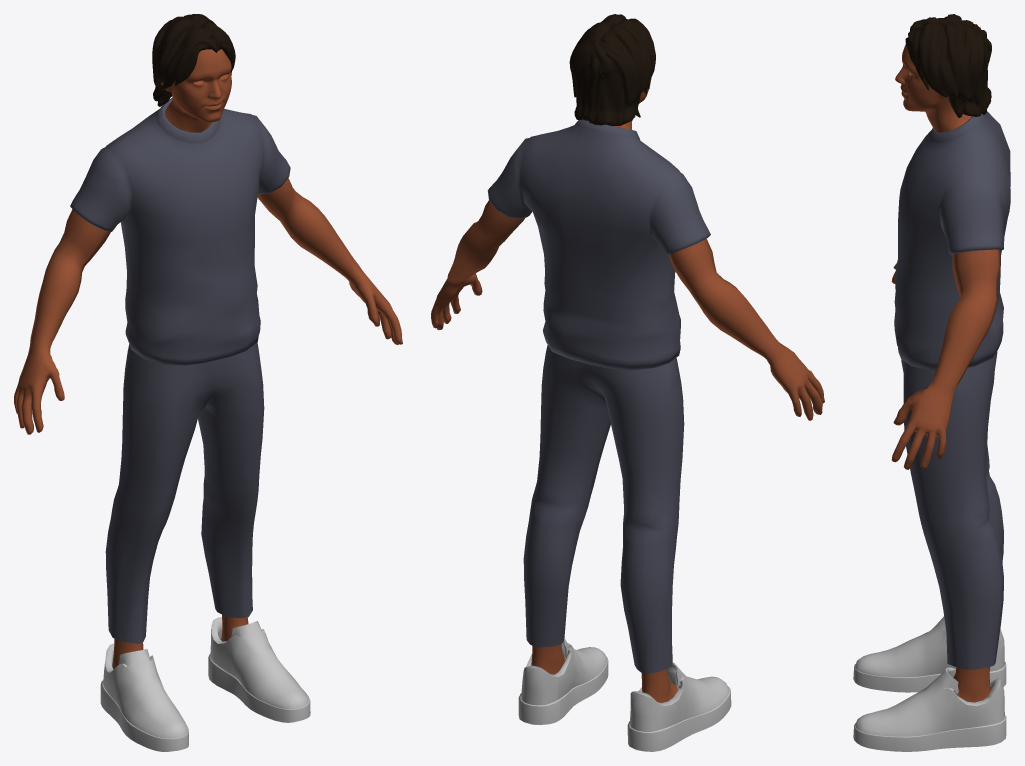
Rendered from man3.glb.
3 renders of one model, left to right at view 1: azimuth 30°, elevation 25°; view 2: azimuth 150°, elevation 25°; view 3: azimuth 270°, elevation 25°, orthographic.
Visible parts, largest first — view 1: Wolf3D_Outfit_Top.001, Wolf3D_Outfit_Bottom.001, Wolf3D_Body.001, Wolf3D_Outfit_Footwear.001, Wolf3D_Hair, Wolf3D_Head.001; view 2: Wolf3D_Outfit_Top.001, Wolf3D_Outfit_Bottom.001, Wolf3D_Body.001, Wolf3D_Outfit_Footwear.001, Wolf3D_Hair; view 3: Wolf3D_Outfit_Top.001, Wolf3D_Outfit_Bottom.001, Wolf3D_Outfit_Footwear.001, Wolf3D_Body.001, Wolf3D_Hair, Wolf3D_Head.001.
Boxes of the visible parts, x1,y1,x2,y2 form: Wolf3D_Outfit_Top.001: (70, 98, 290, 365); Wolf3D_Outfit_Bottom.001: (105, 342, 264, 643); Wolf3D_Body.001: (14, 178, 402, 669); Wolf3D_Outfit_Footwear.001: (100, 617, 310, 751); Wolf3D_Hair: (152, 14, 235, 106); Wolf3D_Head.001: (161, 49, 231, 132); Wolf3D_Outfit_Top.001: (487, 119, 710, 370); Wolf3D_Outfit_Bottom.001: (523, 345, 684, 673); Wolf3D_Body.001: (431, 200, 824, 702); Wolf3D_Outfit_Footwear.001: (518, 638, 731, 751); Wolf3D_Hair: (569, 14, 655, 125); Wolf3D_Outfit_Top.001: (894, 111, 1010, 370); Wolf3D_Outfit_Bottom.001: (901, 351, 1003, 669); Wolf3D_Outfit_Footwear.001: (853, 616, 1006, 751); Wolf3D_Body.001: (891, 249, 1000, 702); Wolf3D_Hair: (905, 14, 991, 117); Wolf3D_Head.001: (895, 44, 971, 132).
Size of the model in its own units: 10.29 by 17.92 by 3.69.
Materials: 4 (1 with a texture image).
